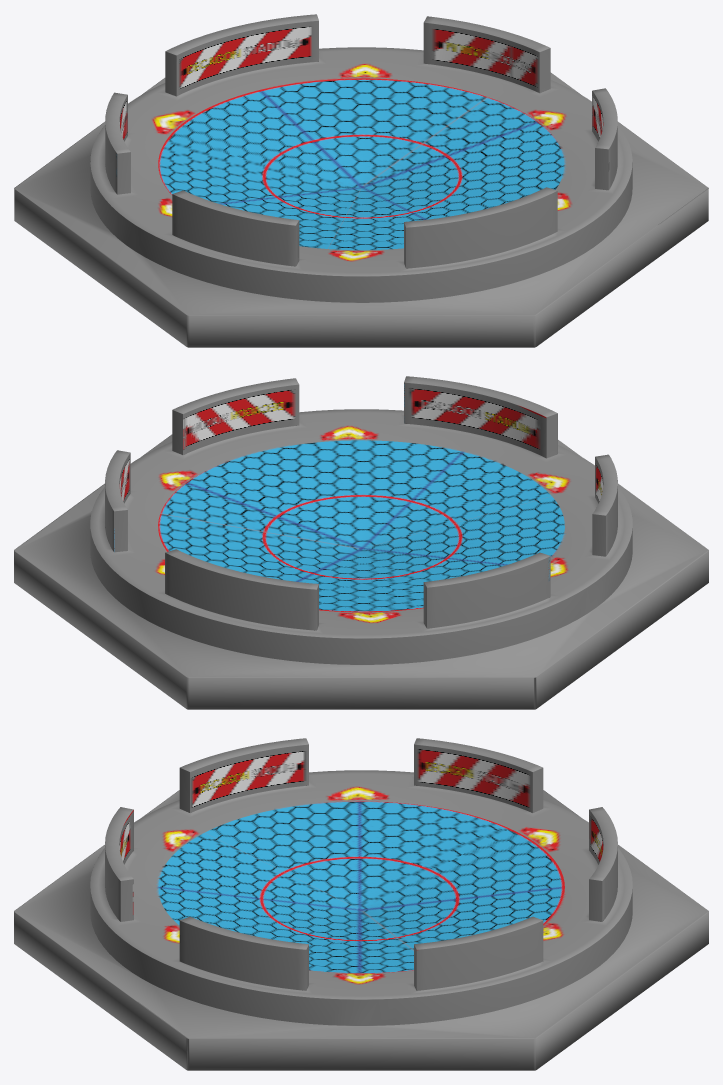
The model's file is stadium3.glb.
The picture shows the model from 3 angles, top to bottom: view 1: azimuth 30°, elevation 25°; view 2: azimuth 150°, elevation 25°; view 3: azimuth 270°, elevation 25°; orthographic projection.
Visible parts, largest first — view 1: Cylinder; view 2: Cylinder; view 3: Cylinder.
Boxes of the visible parts, bbox=[...] form: Cylinder: bbox=[14, 14, 708, 347]; Cylinder: bbox=[14, 376, 708, 709]; Cylinder: bbox=[14, 738, 708, 1070].
Size of the model in its own units: 2.22 by 0.4051 by 2.56.
1 material, 1 textured.
